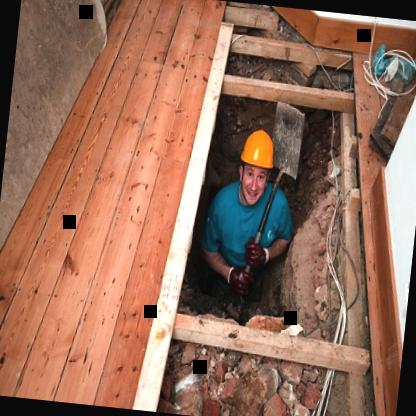helmet: (228, 116, 282, 206)
